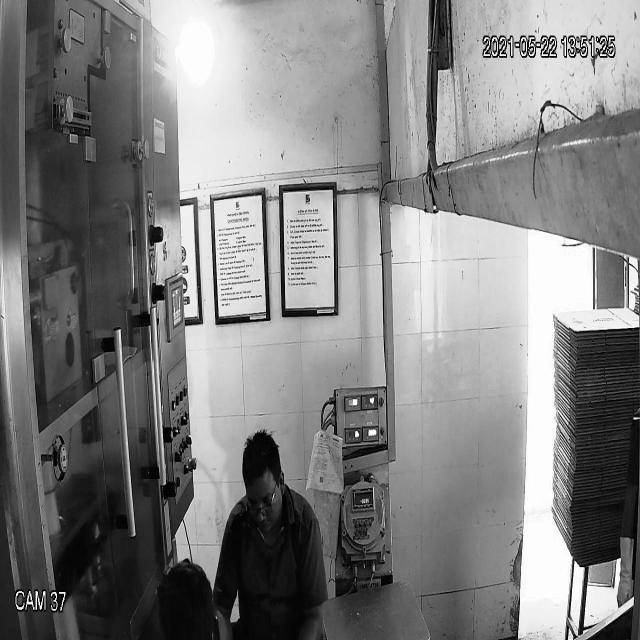glasses: (239, 488, 279, 525)
